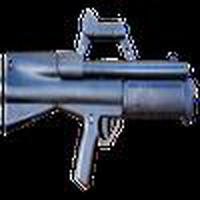gun: (1, 43, 197, 141)
